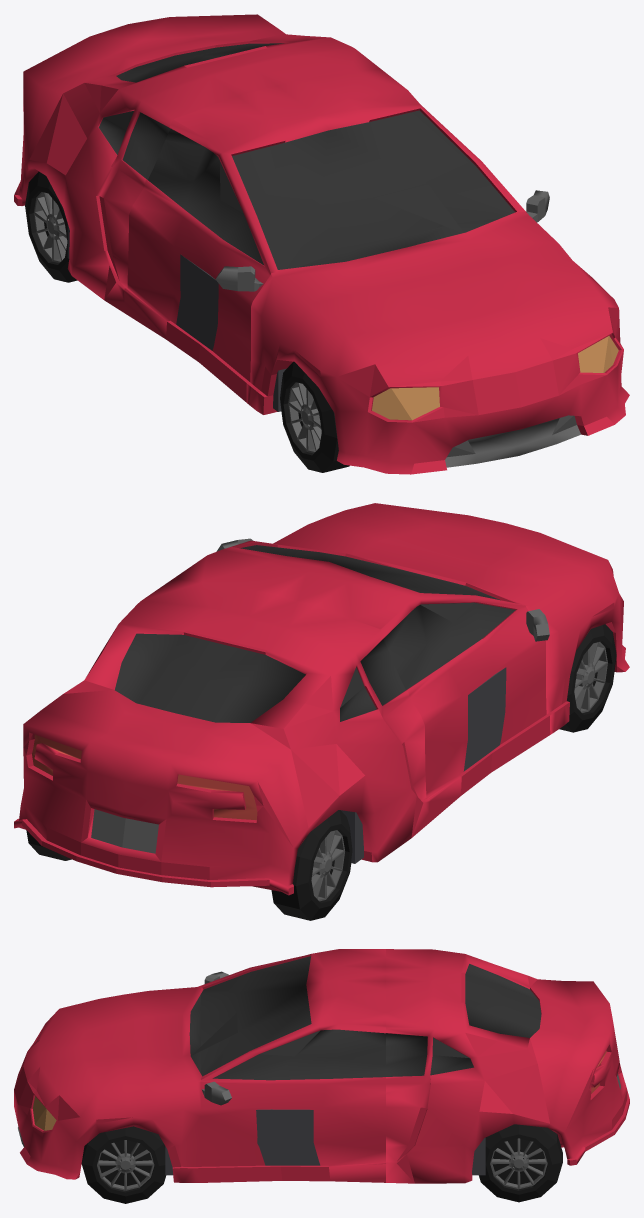
Rendered from roadstar.fbx.
The picture shows the model from 3 angles, top to bottom: view 1: azimuth 30°, elevation 25°; view 2: azimuth 150°, elevation 25°; view 3: azimuth 270°, elevation 25°; orthographic projection. The views are drawn at different scales.
Parts seen in each view (by area): view 1: Body, Door_FR, Wheel_FR, Wheel_RR, Cabin; view 2: Body, Door_FR, Wheel_RR, Wheel_FR, Cabin; view 3: Body, Door_FL, Wheel_FL, Wheel_RL, Cabin.
Boxes of the visible parts, <box> form: Body: <box>14,14,629,474</box>; Door_FR: <box>124,140,270,402</box>; Wheel_FR: <box>280,361,349,472</box>; Wheel_RR: <box>25,171,77,282</box>; Cabin: <box>67,224,286,411</box>; Body: <box>14,503,629,895</box>; Door_FR: <box>388,597,550,823</box>; Wheel_RR: <box>271,810,352,920</box>; Wheel_FR: <box>559,624,616,732</box>; Cabin: <box>341,667,506,863</box>; Body: <box>14,949,629,1183</box>; Door_FL: <box>201,1026,385,1182</box>; Wheel_FL: <box>81,1126,166,1203</box>; Wheel_RL: <box>479,1124,562,1202</box>; Cabin: <box>165,1109,485,1175</box>.
Bounding box in the file's own units: 2.05 × 1.32 × 4.3.
